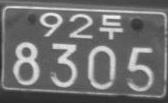0: (87, 44, 116, 90)
2: (69, 12, 93, 39)
3: (49, 42, 78, 88)
5: (126, 46, 154, 92)
8: (12, 40, 39, 86)
9: (39, 11, 63, 37)
두: (99, 13, 123, 39)
